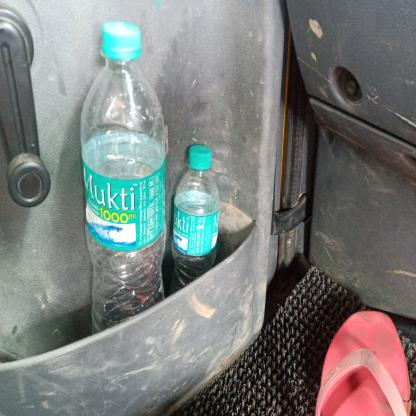bottle: (59, 107, 299, 227), (85, 230, 206, 296)
